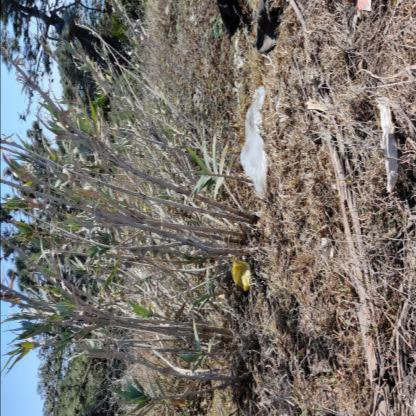Plastic bag - wrapper: (239, 86, 267, 197), (231, 258, 250, 292), (352, 11, 361, 38), (193, 89, 201, 109)
Unlabeled litter: (378, 102, 398, 192), (254, 1, 279, 54), (233, 26, 245, 101), (321, 238, 333, 258), (213, 18, 221, 39), (270, 92, 278, 112), (356, 0, 371, 10)
